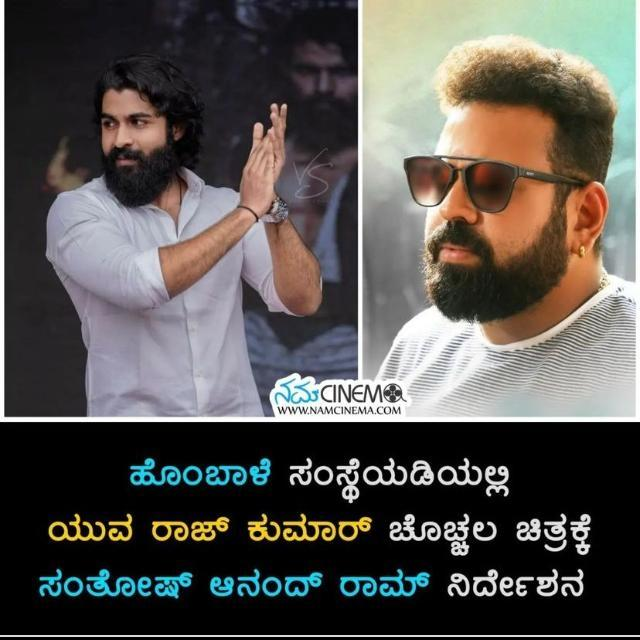person: (392, 31, 640, 440), (72, 55, 304, 418)
